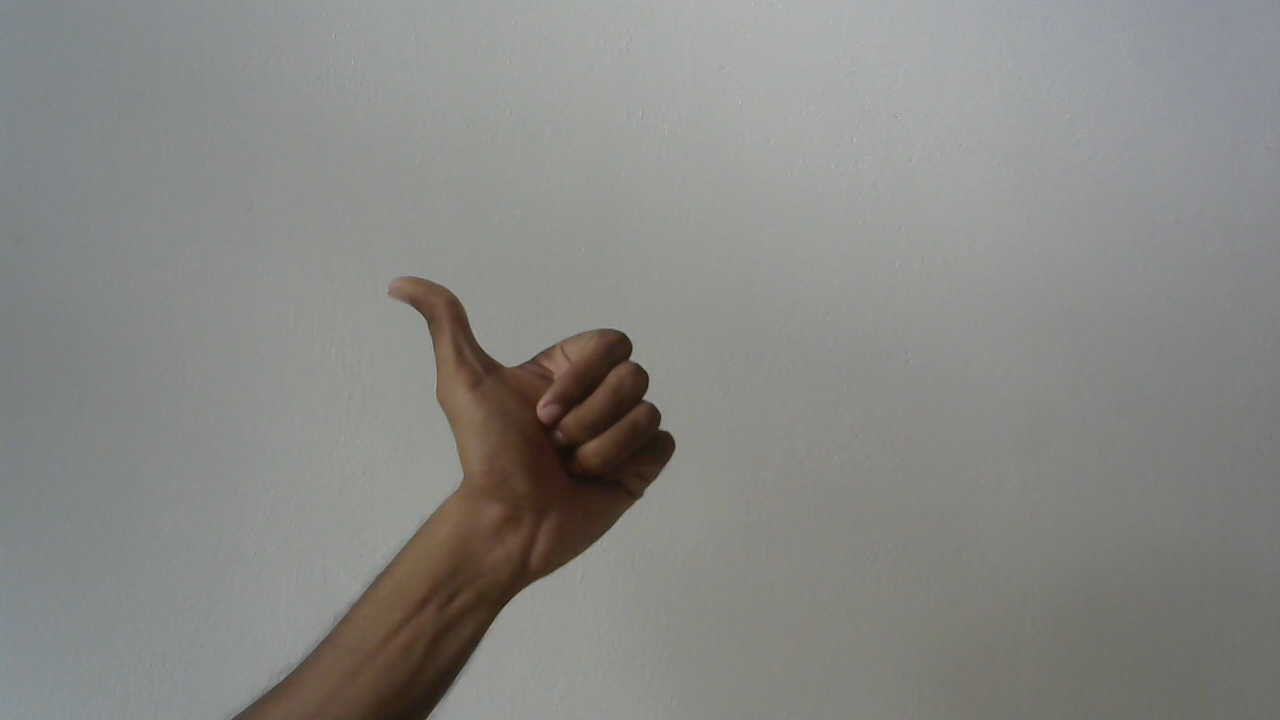thumbsup: (377, 250, 701, 577)
